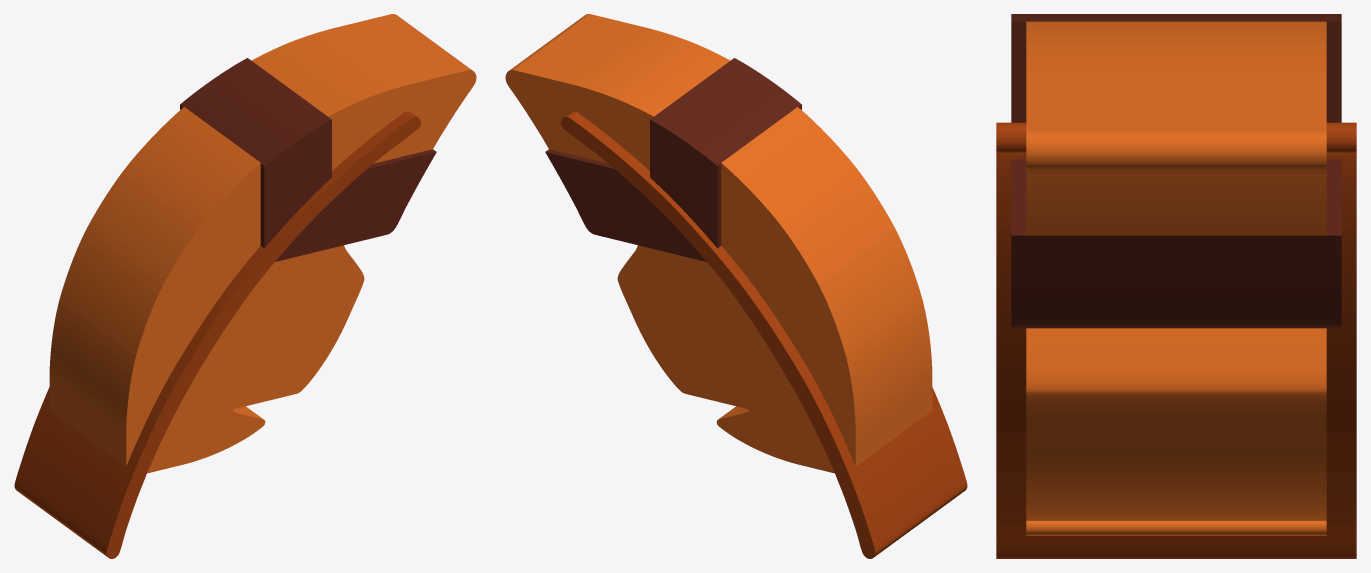
File: U+1FAB6.obj
3 views of the same model, side by side, from view 1: azimuth 30°, elevation 25°; view 2: azimuth 150°, elevation 25°; view 3: azimuth 270°, elevation 25° (orthographic). The views are drawn at different scales.
Parts seen in each view (by area): view 1: U+1FAB6_layer00_obj00, U+1FAB6_layer02_obj00, U+1FAB6_layer01_obj00; view 2: U+1FAB6_layer00_obj00, U+1FAB6_layer02_obj00, U+1FAB6_layer01_obj00; view 3: U+1FAB6_layer00_obj00, U+1FAB6_layer01_obj00, U+1FAB6_layer02_obj00.
Boxes of the visible parts, bbox=[...] form: U+1FAB6_layer00_obj00: bbox=[49, 14, 476, 473]; U+1FAB6_layer02_obj00: bbox=[14, 111, 420, 558]; U+1FAB6_layer01_obj00: bbox=[180, 58, 436, 261]; U+1FAB6_layer00_obj00: bbox=[505, 14, 932, 473]; U+1FAB6_layer02_obj00: bbox=[561, 111, 967, 558]; U+1FAB6_layer01_obj00: bbox=[545, 58, 801, 261]; U+1FAB6_layer00_obj00: bbox=[1026, 21, 1326, 535]; U+1FAB6_layer01_obj00: bbox=[1011, 14, 1341, 328]; U+1FAB6_layer02_obj00: bbox=[996, 122, 1356, 558].
Bounding box in the file's own units: 0.5687 × 0.5677 × 0.24.
